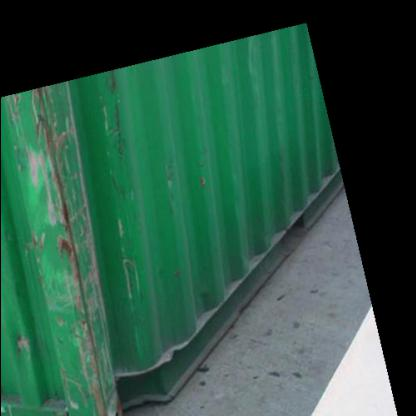Damage: (6, 88, 100, 416), (156, 136, 210, 212), (113, 200, 148, 302)
